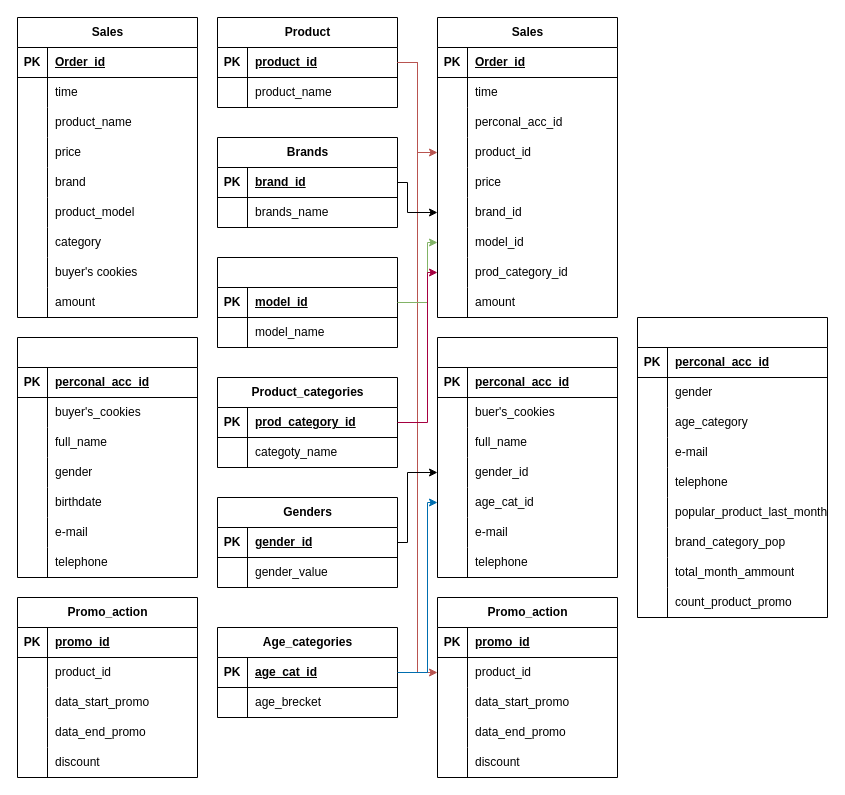
This 845x795 diagram has some shape labels left out. Each missing label, with the box of its shape:
Buyers: (436, 336, 618, 578)
Data_mart: (636, 316, 828, 618)
Models: (216, 256, 398, 348)
Personal_account: (16, 336, 198, 578)
